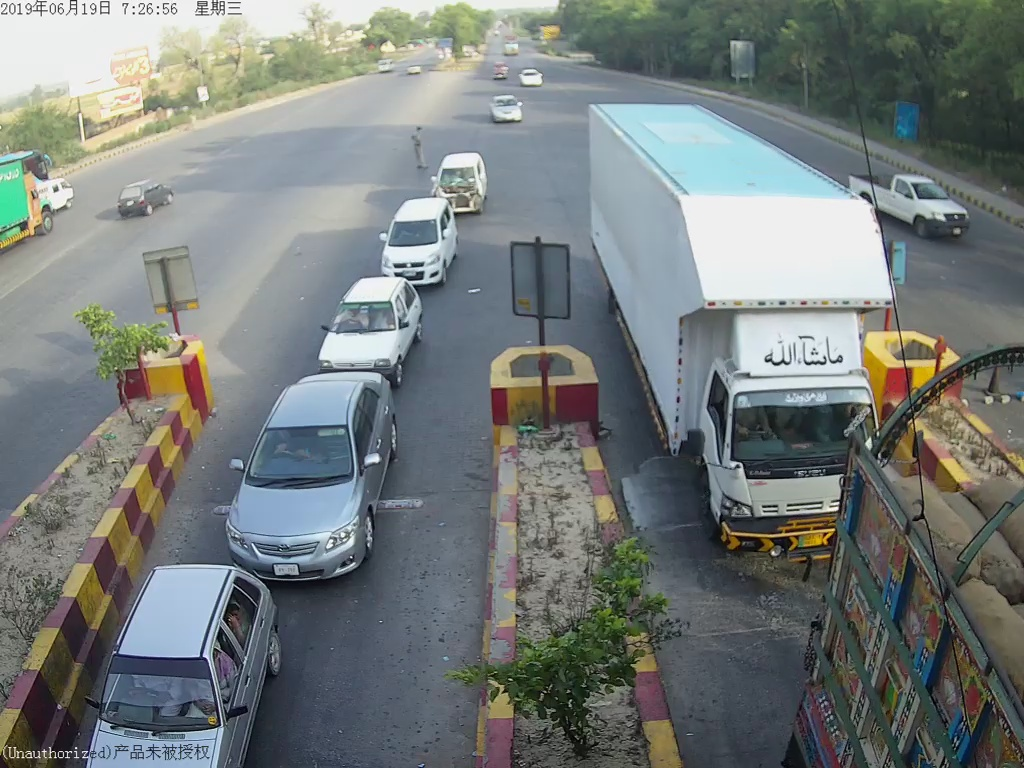Cat-1: (226, 378, 400, 576), (312, 272, 422, 376), (376, 198, 455, 271)
Cat-4: (584, 94, 904, 559)
